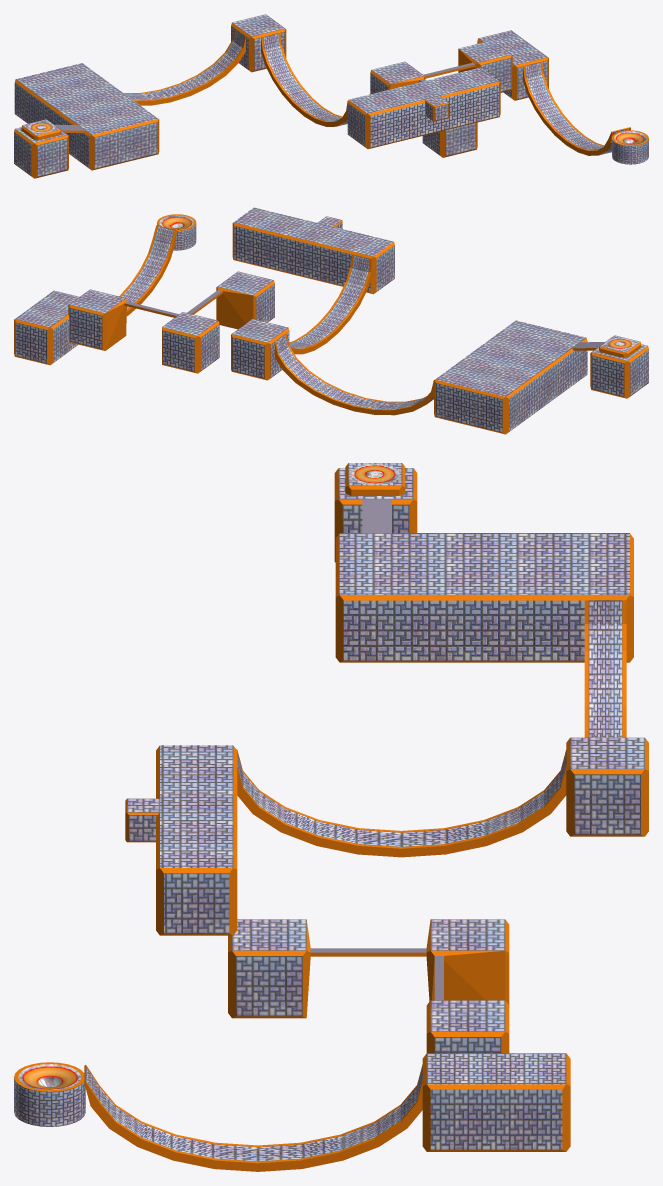
File: Level18.fbx
The picture shows the model from 3 angles, top to bottom: view 1: azimuth 30°, elevation 25°; view 2: azimuth 150°, elevation 25°; view 3: azimuth 270°, elevation 25°; orthographic projection. The views are drawn at different scales.
Parts seen in each view (by area): view 1: Level18; view 2: Level18; view 3: Level18.
Part boxes in pixels (bbox=[...]): Level18: bbox=[14, 14, 648, 178]; Level18: bbox=[14, 207, 648, 434]; Level18: bbox=[14, 463, 648, 1171].
Size of the model in its own units: 4773 by 980 by 2552.
Materials: 8 (5 with a texture image).
